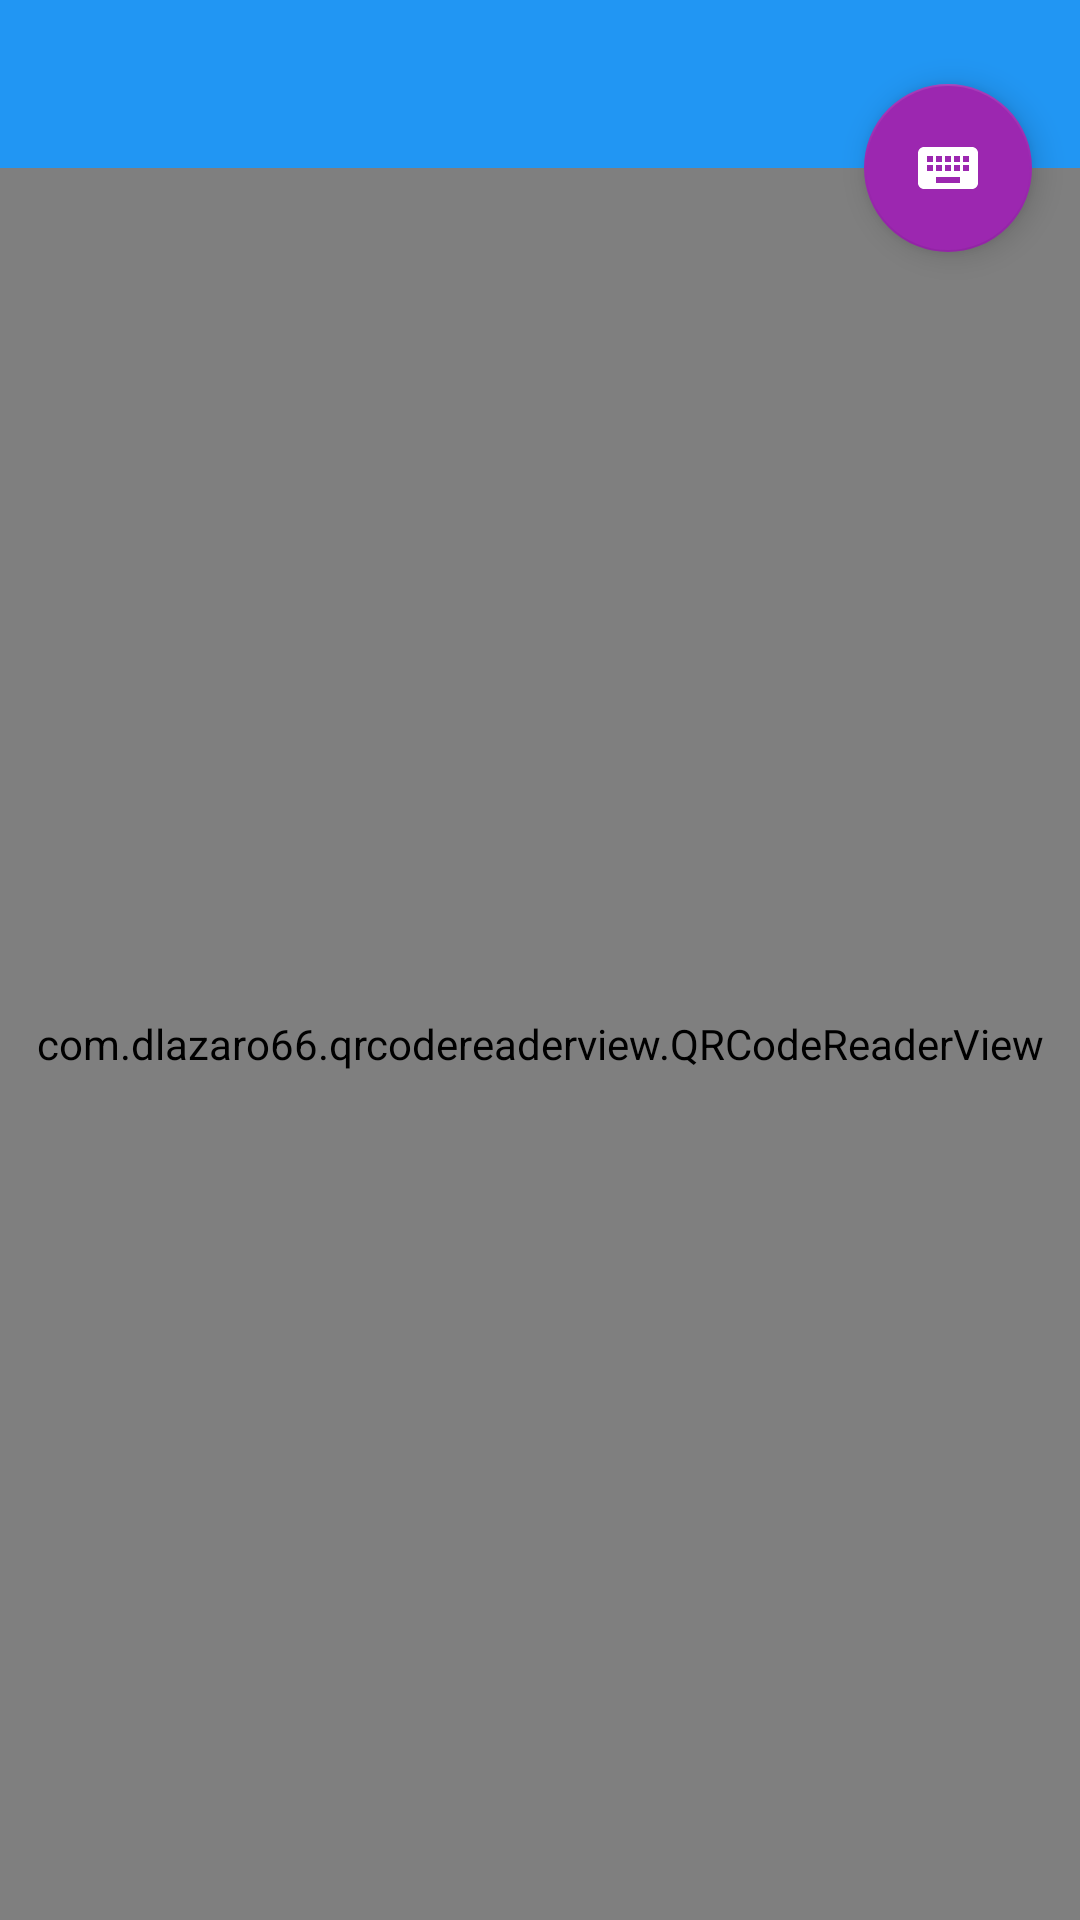

Icons on this 1080×1920 Android screen, each with the point to tap as [x,y]:
keyboard: [948,168]
